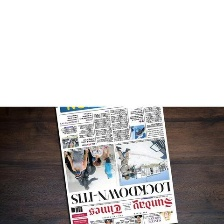news_paper: (49, 105, 182, 224)
